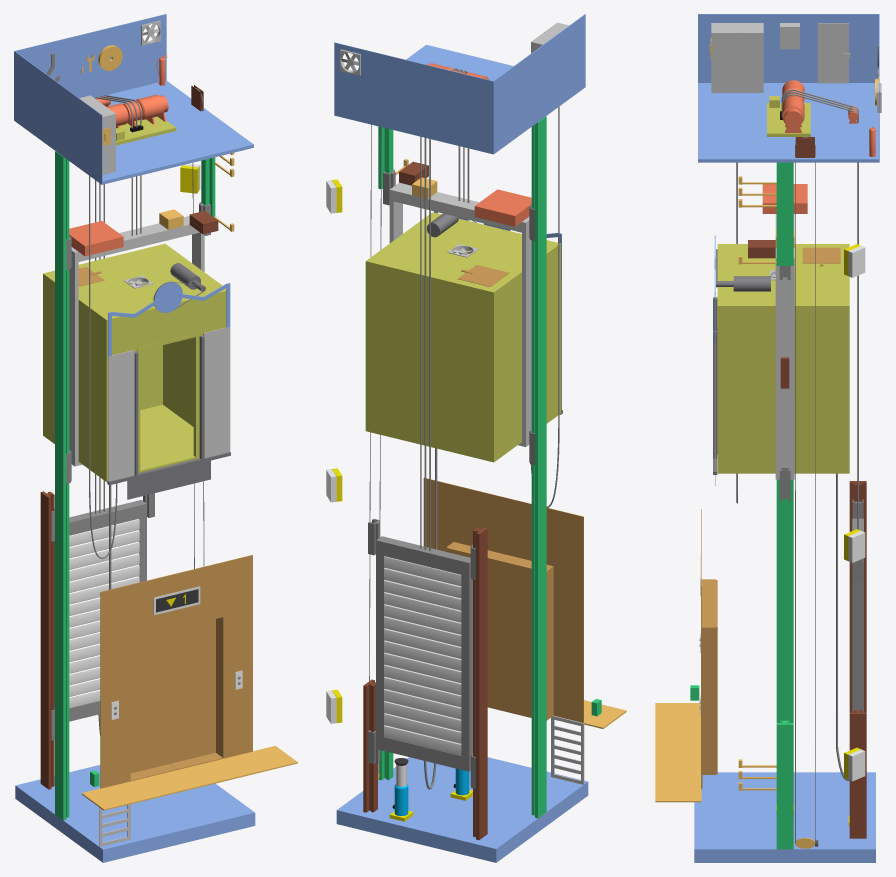
The picture shows the model from 3 angles, left to right: view 1: azimuth 30°, elevation 25°; view 2: azimuth 150°, elevation 25°; view 3: azimuth 270°, elevation 25°; orthographic projection. The views are drawn at different scales.
Parts seen in each view (by area): view 1: D022厅门, D018轿厢, 机房建筑, D026井底, D033轿厢导轨, D038对重, D017轿门, 厅门前地面, D052对重导轨, D045轿厢框架, D019护脚板, D015轿门连杆 (+12 smaller); view 2: D018轿厢, D022厅门, D038对重, 机房建筑, D026井底, D033轿厢导轨, D052对重导轨, D045轿厢框架, D039钢丝绳, D047轿厢照明, D012轿顶配电箱, D025爬梯 (+7 smaller); view 3: D018轿厢, 机房建筑, D026井底, D033轿厢导轨, 厅门前地面, D045轿厢框架, D010控制柜, D052对重导轨, D022厅门, D047轿厢照明 (×2), D001机房门, D038对重 (+12 smaller).
Part boxes in pixels (x1=…): D022厅门: x1=100, y1=555, x2=252, y2=788; D018轿厢: x1=43, y1=243, x2=226, y2=481; 机房建筑: x1=14, y1=14, x2=253, y2=184; D026井底: x1=15, y1=765, x2=255, y2=862; D033轿厢导轨: x1=55, y1=151, x2=215, y2=820; D038对重: x1=54, y1=500, x2=146, y2=721; D017轿门: x1=108, y1=327, x2=230, y2=482; 厅门前地面: x1=81, y1=745, x2=297, y2=810; D052对重导轨: x1=40, y1=491, x2=54, y2=789; D045轿厢框架: x1=69, y1=216, x2=204, y2=466; D019护脚板: x1=107, y1=452, x2=230, y2=499; D015轿门连杆: x1=108, y1=282, x2=230, y2=356; D018轿厢: x1=365, y1=212, x2=560, y2=462; D022厅门: x1=423, y1=477, x2=583, y2=722; D038对重: x1=376, y1=536, x2=472, y2=771; 机房建筑: x1=334, y1=14, x2=585, y2=154; D026井底: x1=336, y1=757, x2=588, y2=862; D033轿厢导轨: x1=378, y1=116, x2=546, y2=818; D052对重导轨: x1=363, y1=527, x2=487, y2=839; D045轿厢框架: x1=389, y1=182, x2=531, y2=446; D039钢丝绳: x1=420, y1=68, x2=469, y2=550; D047轿厢照明: x1=326, y1=179, x2=342, y2=723; D012轿顶配电箱: x1=474, y1=189, x2=531, y2=226; D025爬梯: x1=551, y1=715, x2=584, y2=784; D018轿厢: x1=717, y1=244, x2=849, y2=473; 机房建筑: x1=698, y1=14, x2=879, y2=162; D026井底: x1=694, y1=772, x2=875, y2=862; D033轿厢导轨: x1=776, y1=162, x2=793, y2=849; 厅门前地面: x1=655, y1=703, x2=701, y2=802; D045轿厢框架: x1=775, y1=214, x2=794, y2=479; D010控制柜: x1=711, y1=23, x2=763, y2=92; D052对重导轨: x1=849, y1=481, x2=866, y2=838; D022厅门: x1=701, y1=509, x2=717, y2=789; D047轿厢照明 (×2): x1=748, y1=240, x2=865, y2=781; D001机房门: x1=817, y1=23, x2=850, y2=83; D038对重: x1=852, y1=518, x2=863, y2=712.
Size of the model in its own units: 3060 by 11253 by 2989.
19 materials, 16 textured.
